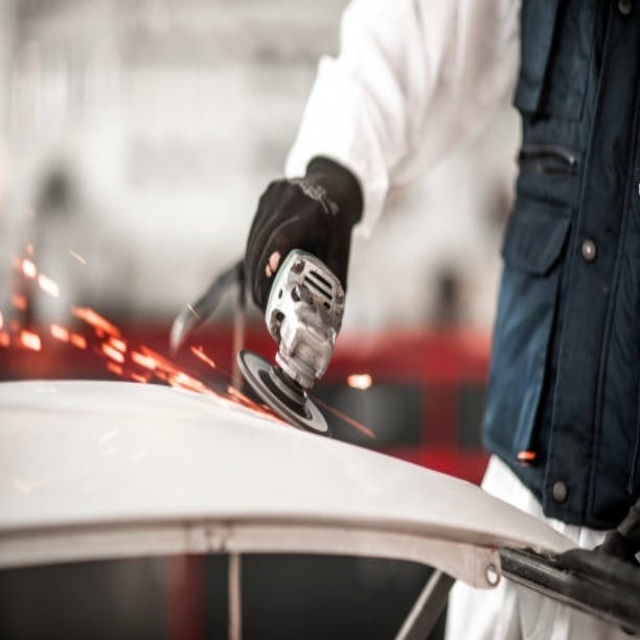Guantes: (242, 159, 362, 346)
